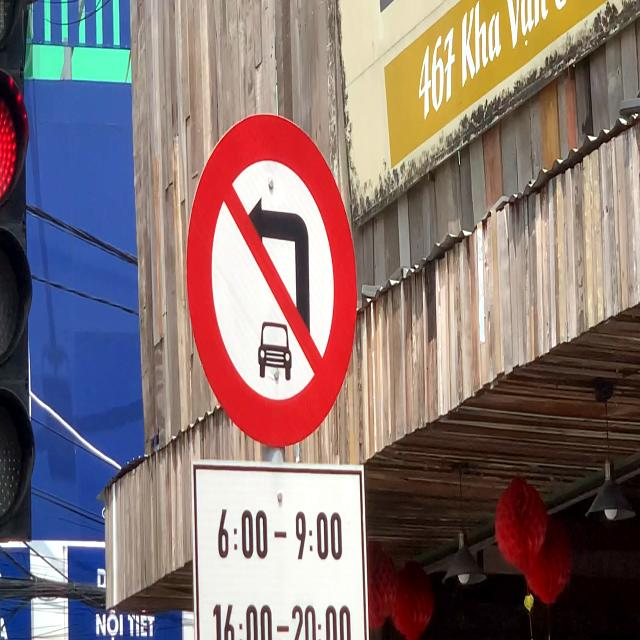P.103c: (184, 112, 358, 450)
